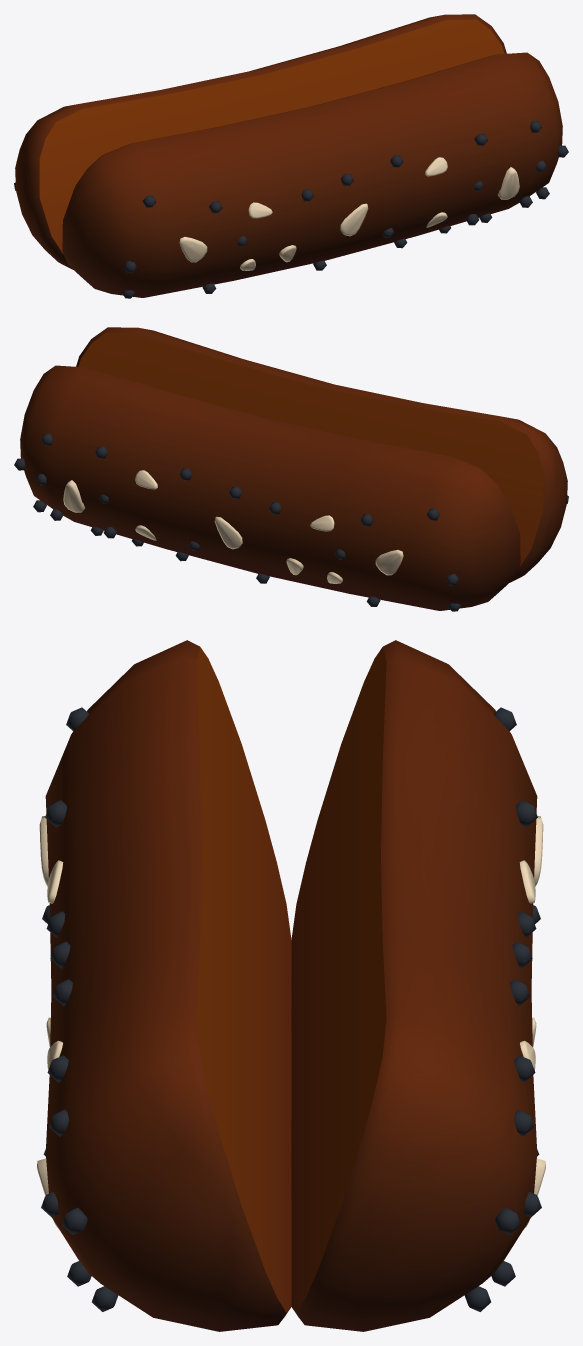
Rendered from HotDog_bun_with_seeds.005.fbx.
The picture shows the model from 3 angles, top to bottom: view 1: azimuth 30°, elevation 25°; view 2: azimuth 150°, elevation 25°; view 3: azimuth 270°, elevation 25°; orthographic projection. The views are drawn at different scales.
Parts seen in each view (by area): view 1: HotDog_bun_with_seeds.005; view 2: HotDog_bun_with_seeds.005; view 3: HotDog_bun_with_seeds.005.
Part boxes in pixels (bbox=[...]): HotDog_bun_with_seeds.005: bbox=[14, 14, 568, 298]; HotDog_bun_with_seeds.005: bbox=[14, 327, 568, 611]; HotDog_bun_with_seeds.005: bbox=[37, 640, 545, 1331].
Bounding box in the file's own units: 153 × 69.97 × 49.72.
